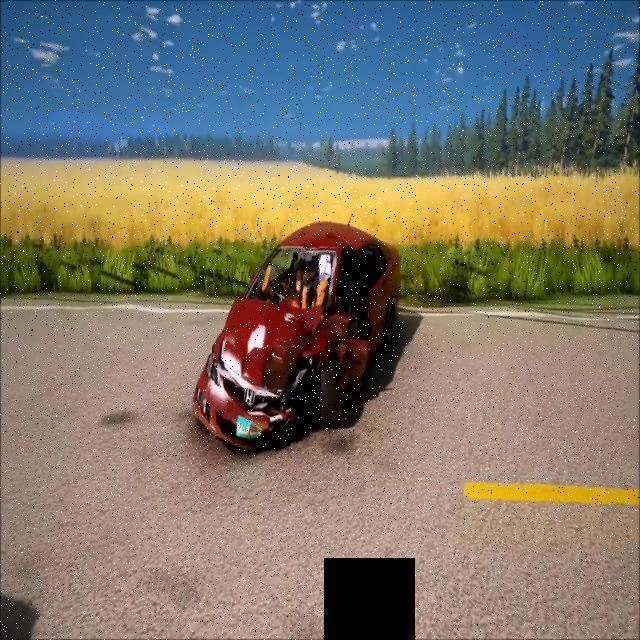vehicle: (180, 117, 416, 466)
